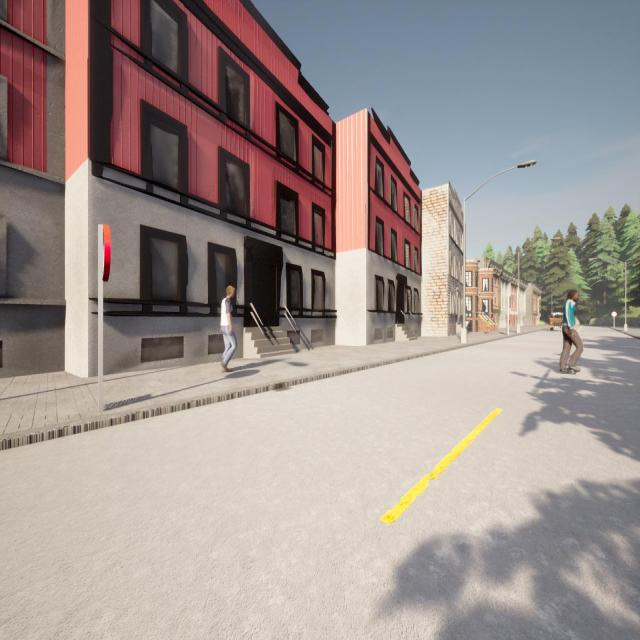Pedestrian: (558, 287, 583, 377), (220, 285, 237, 372), (485, 319, 491, 336)
Traffic_Signs: (98, 224, 111, 284), (611, 312, 617, 317)
Vehicle: (548, 312, 563, 331)
traffic_light: (506, 296, 511, 308)
